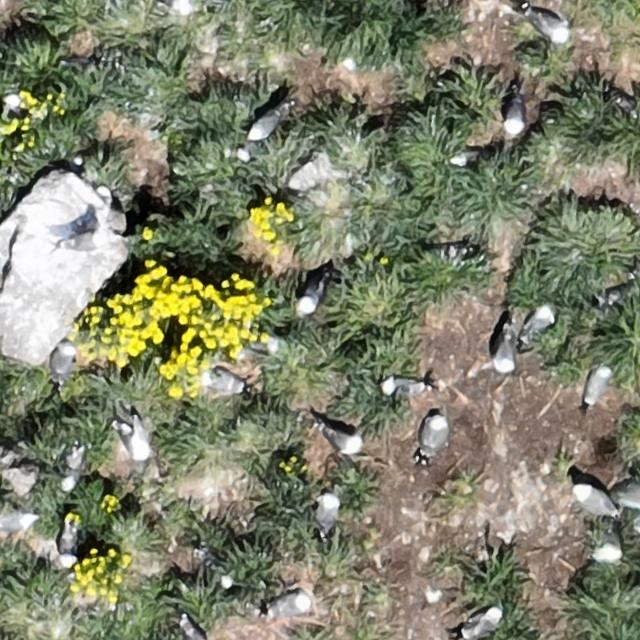umineko: (593, 520, 627, 564), (122, 415, 149, 461), (57, 231, 112, 253), (49, 339, 77, 382), (262, 595, 314, 618), (574, 488, 611, 516), (533, 12, 569, 40), (464, 608, 500, 635), (250, 111, 282, 139), (424, 417, 448, 454), (525, 304, 553, 335), (327, 430, 362, 454), (585, 368, 608, 404), (298, 285, 324, 315), (316, 495, 336, 532), (385, 378, 426, 396), (209, 372, 244, 393), (496, 336, 516, 372), (506, 100, 525, 135), (4, 511, 35, 532), (59, 526, 76, 563), (184, 618, 208, 639), (453, 152, 479, 166)
